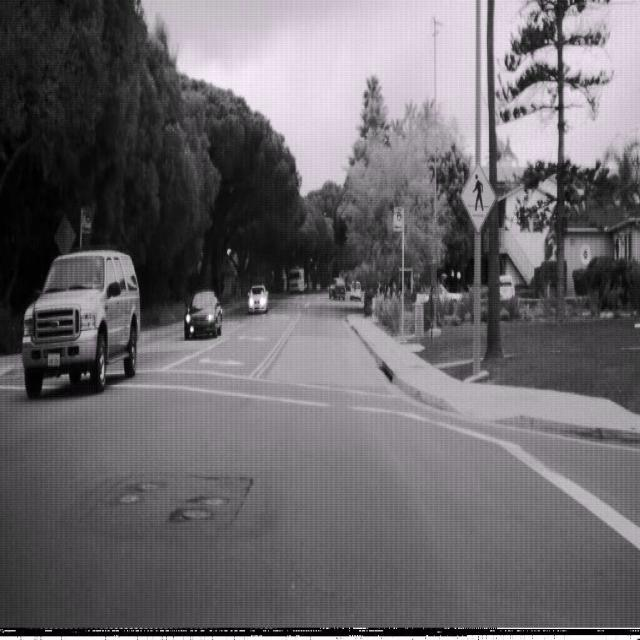pedestrianCrossing: (460, 160, 496, 234)
